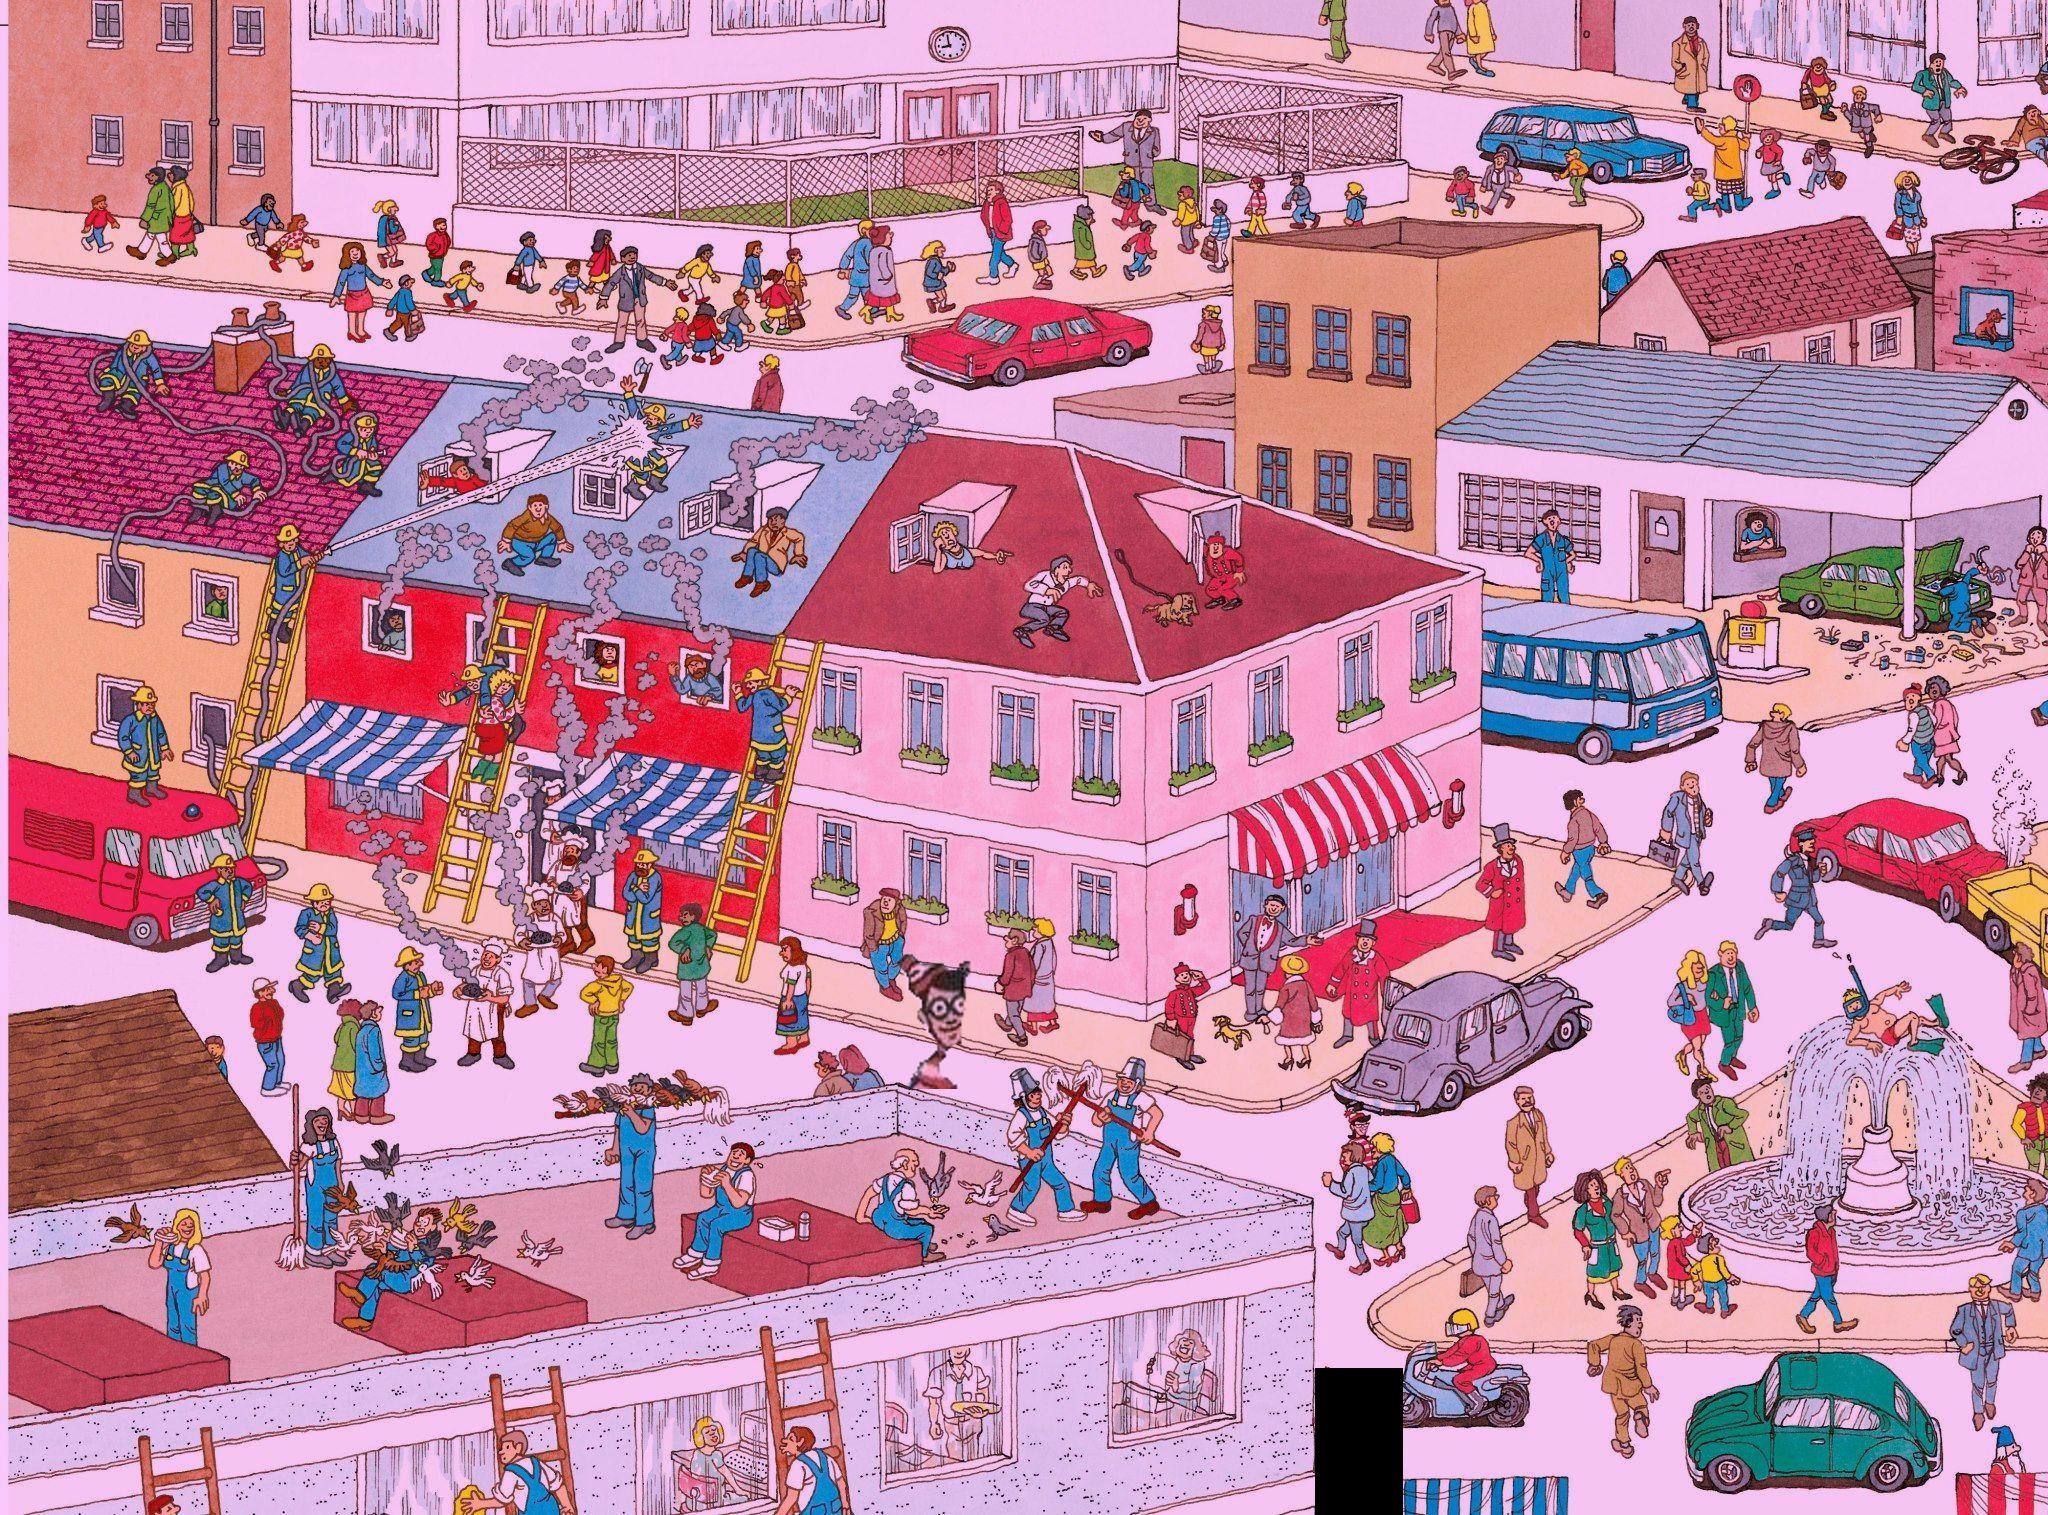waldos: (891, 941, 979, 1089)
